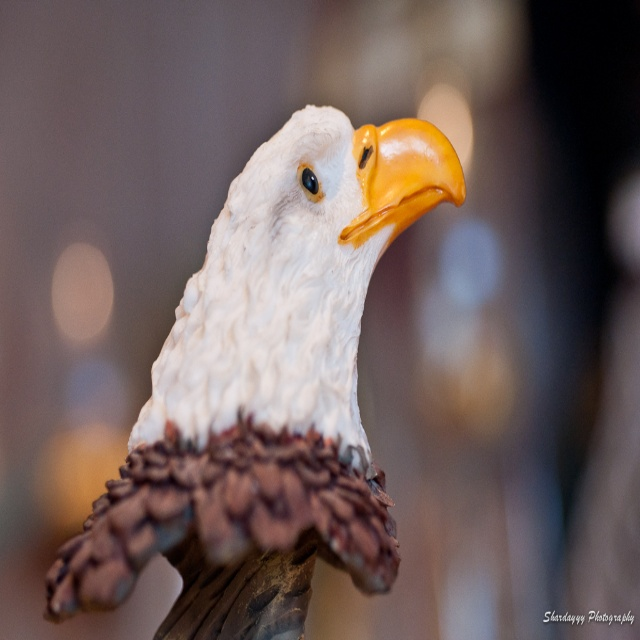Eagle: (41, 101, 471, 639)
